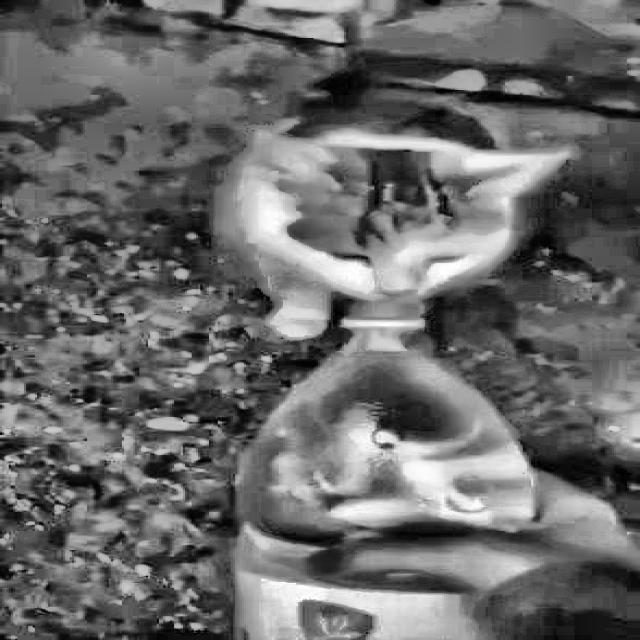waterbottle: (222, 285, 561, 640)
